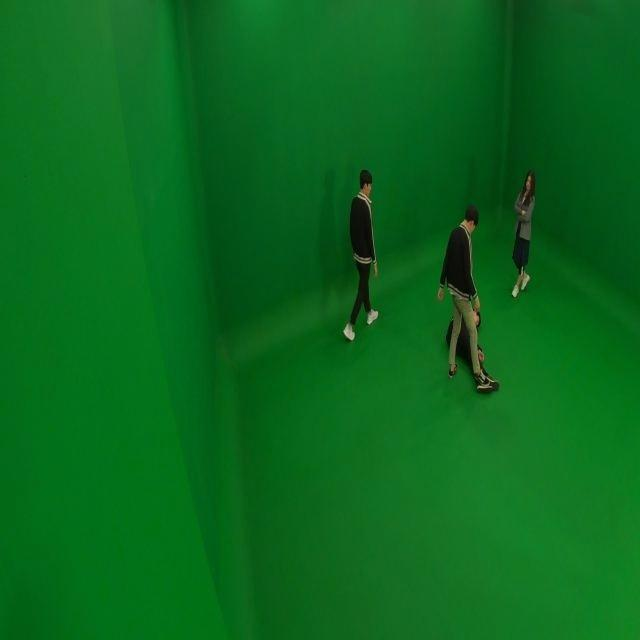fight: (436, 200, 492, 393)
non-fight: (343, 167, 382, 343), (509, 169, 537, 296)
